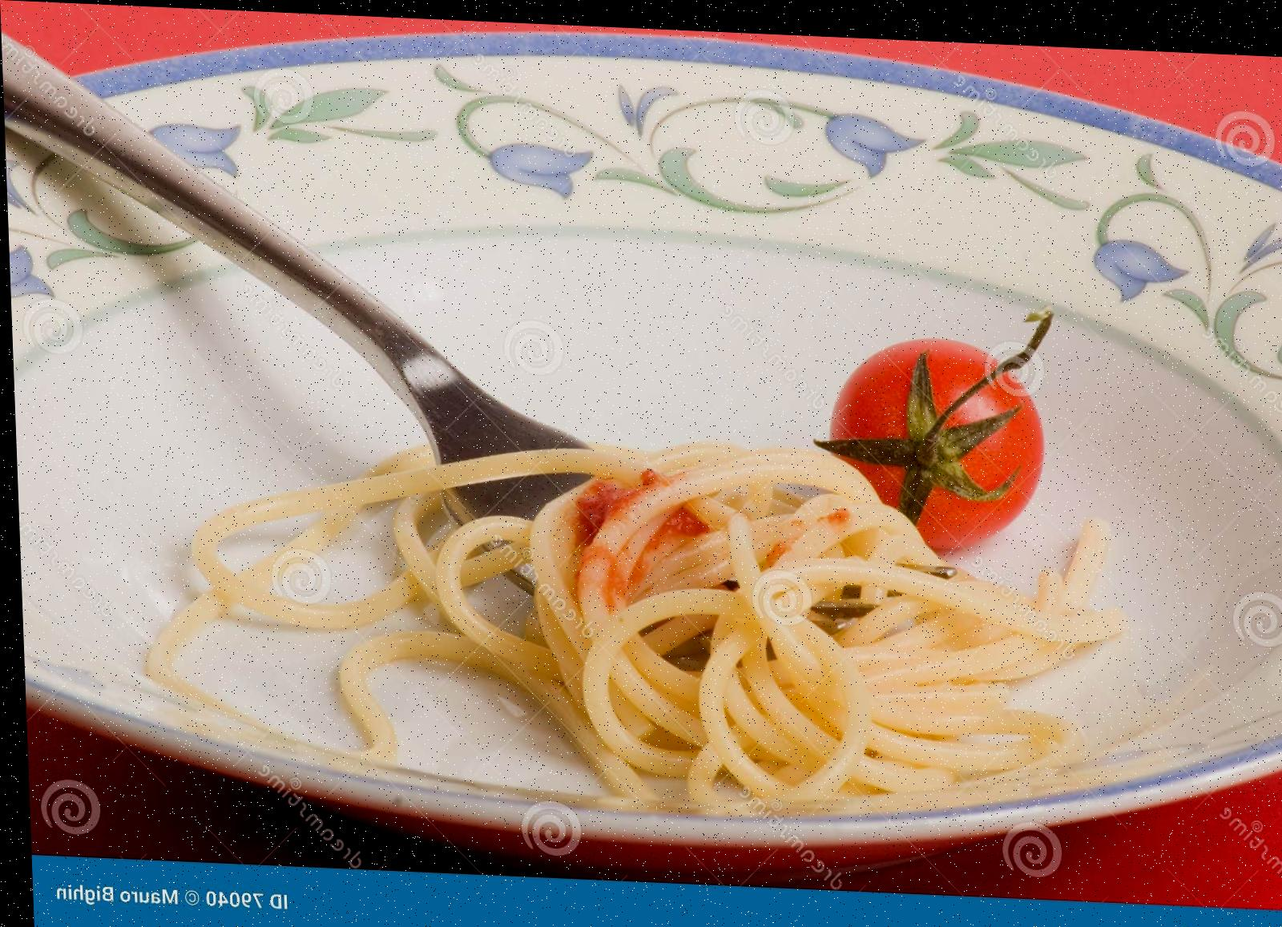pasta: (149, 445, 1125, 802)
